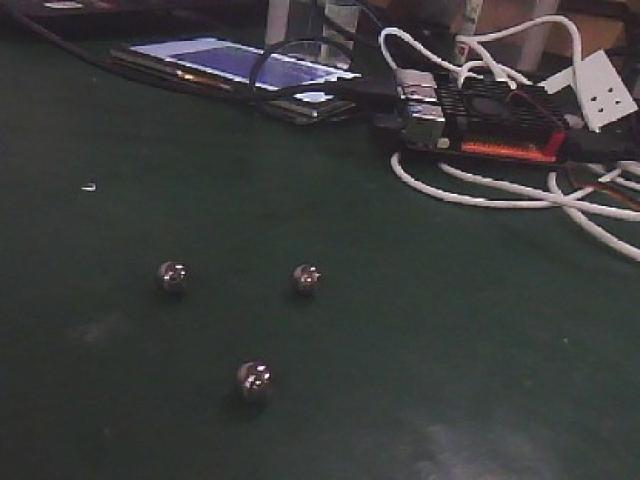steel-ball: (278, 243, 340, 314), (145, 239, 203, 304), (217, 349, 283, 403)
